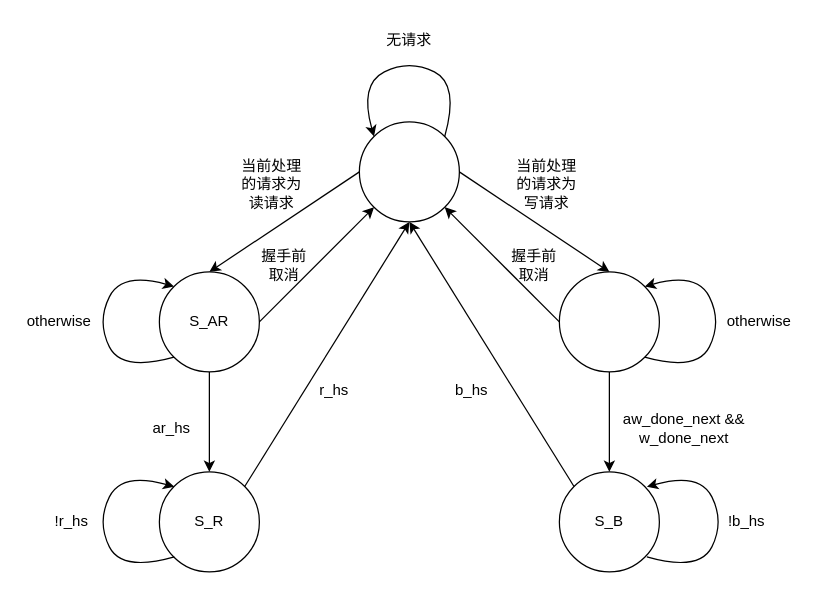
Image size: 818x594. Some labels were removed from this diagram. The shapes that lost their labels are listed below. From the top down, each one's centre as x and y in pixels, then its label:
the point at 408,171: S_IDLE
the point at 608,321: S_AW
